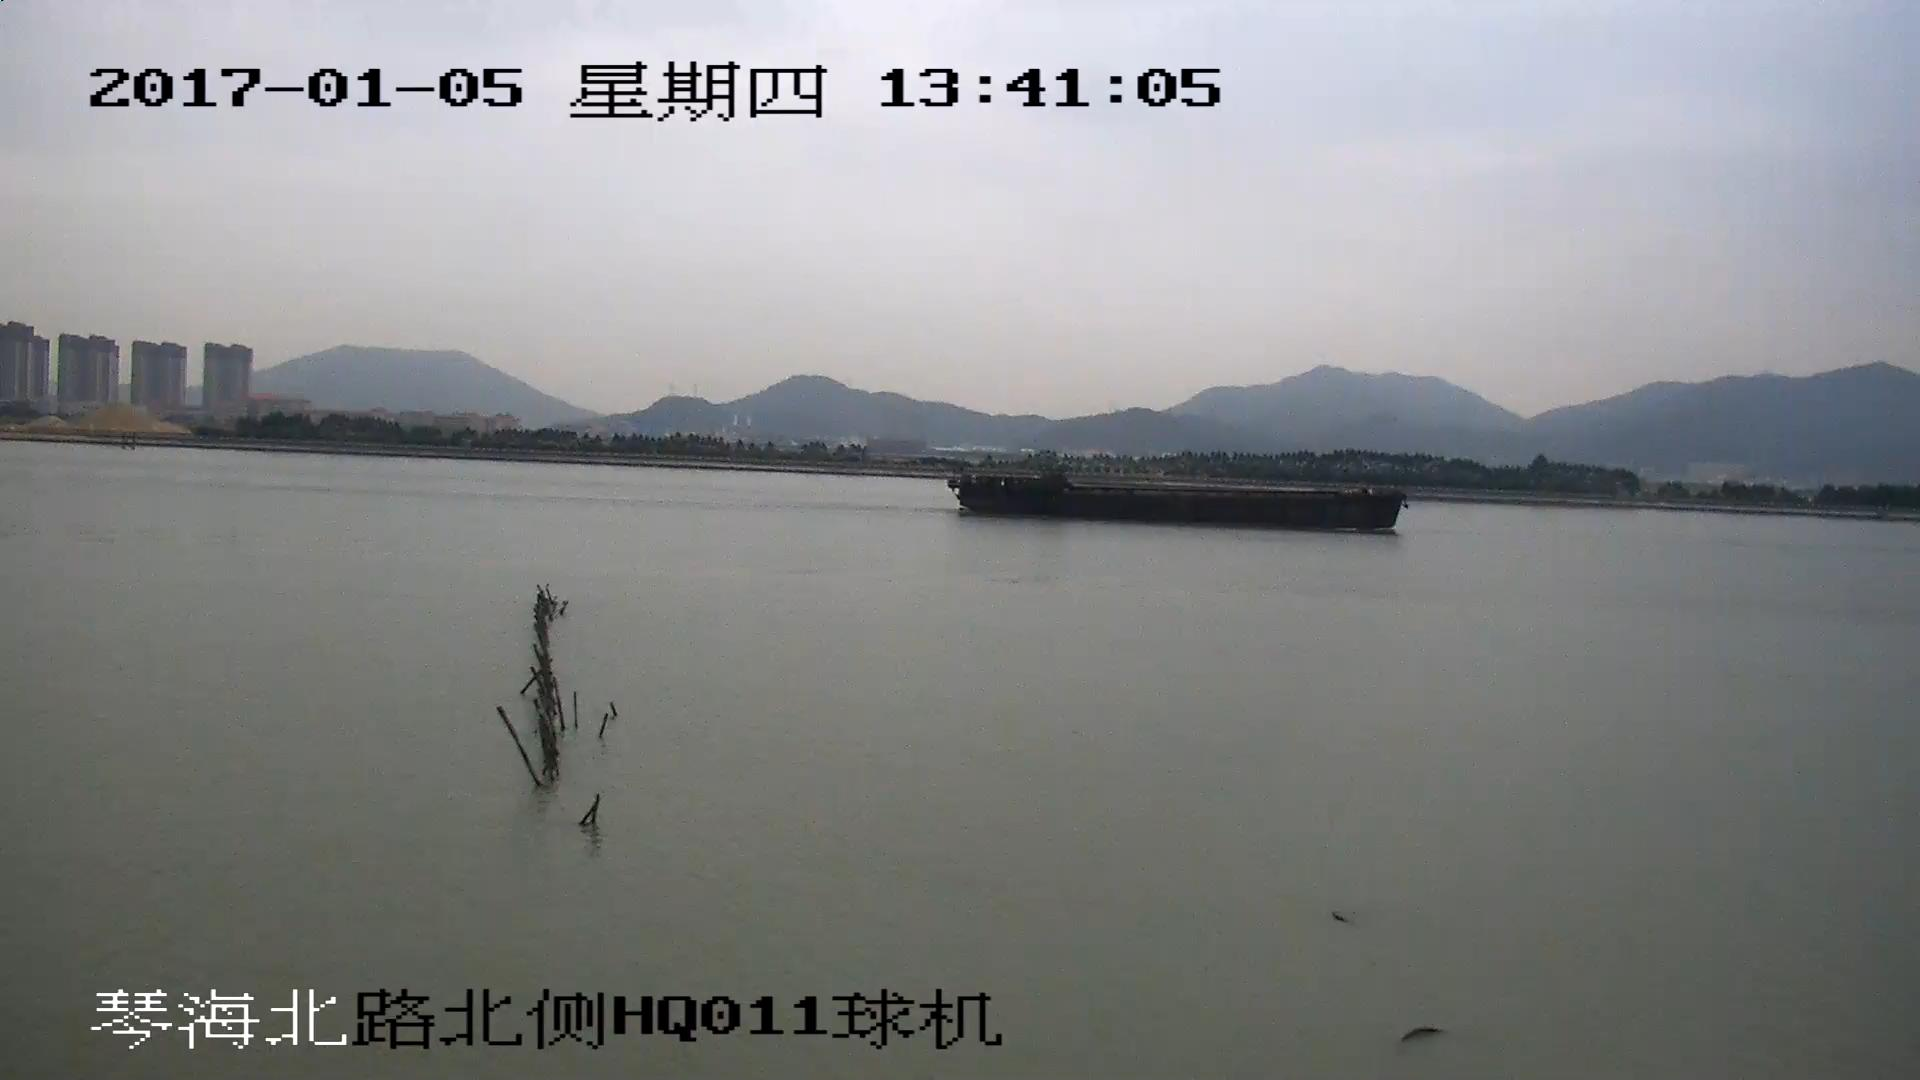bulk cargo carrier: (948, 471, 1406, 532)
